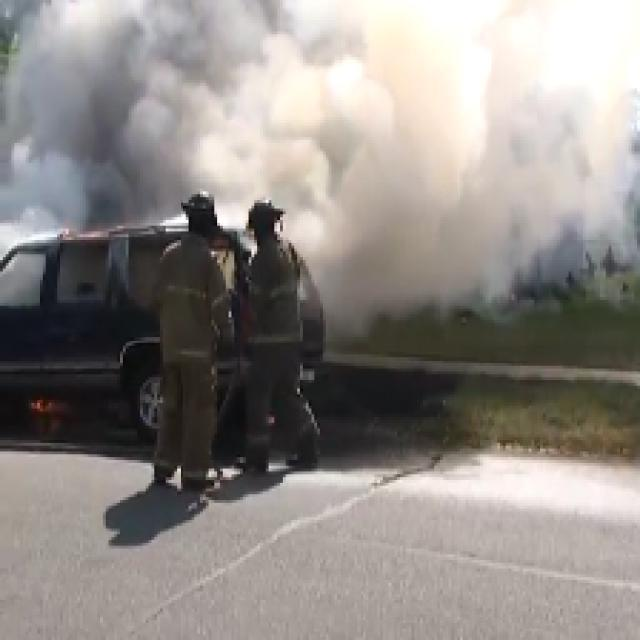Smoke: (11, 3, 392, 215), (398, 8, 626, 302)
